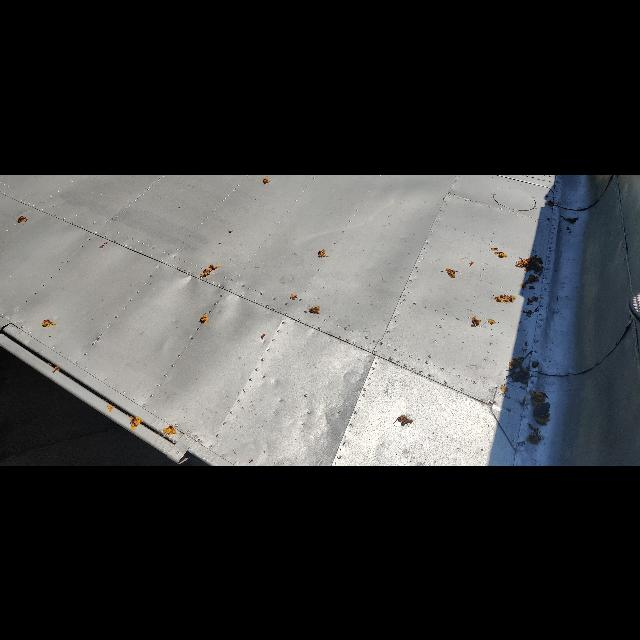dent: (316, 399, 344, 429), (335, 362, 355, 383), (268, 374, 284, 390)
